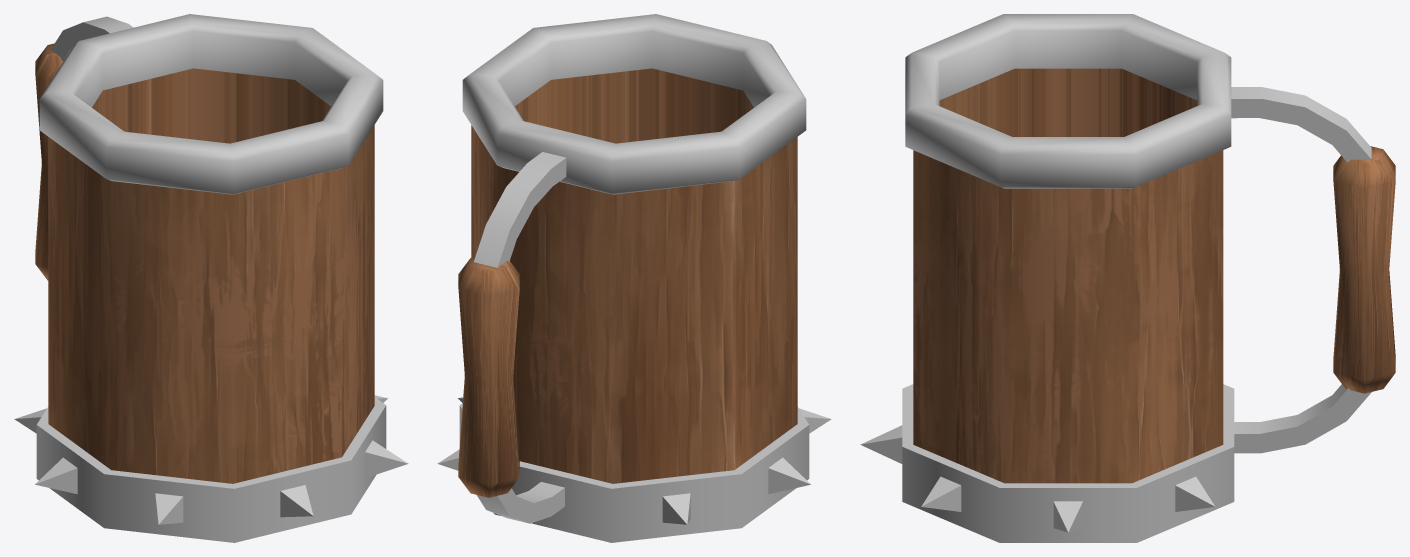
Rendered from Mug.fbx.
3 views of the same model, side by side, from view 1: azimuth 30°, elevation 25°; view 2: azimuth 150°, elevation 25°; view 3: azimuth 270°, elevation 25° (orthographic).
Visible parts, largest first — view 1: Mug; view 2: Mug; view 3: Mug.
Boxes of the visible parts, left/top/right/bottom form: Mug: left=14, top=14, right=408, bottom=542; Mug: left=437, top=14, right=831, bottom=542; Mug: left=860, top=14, right=1395, bottom=542.
Bounding box in the file's own units: 0.2321 × 0.2416 × 0.2987.
